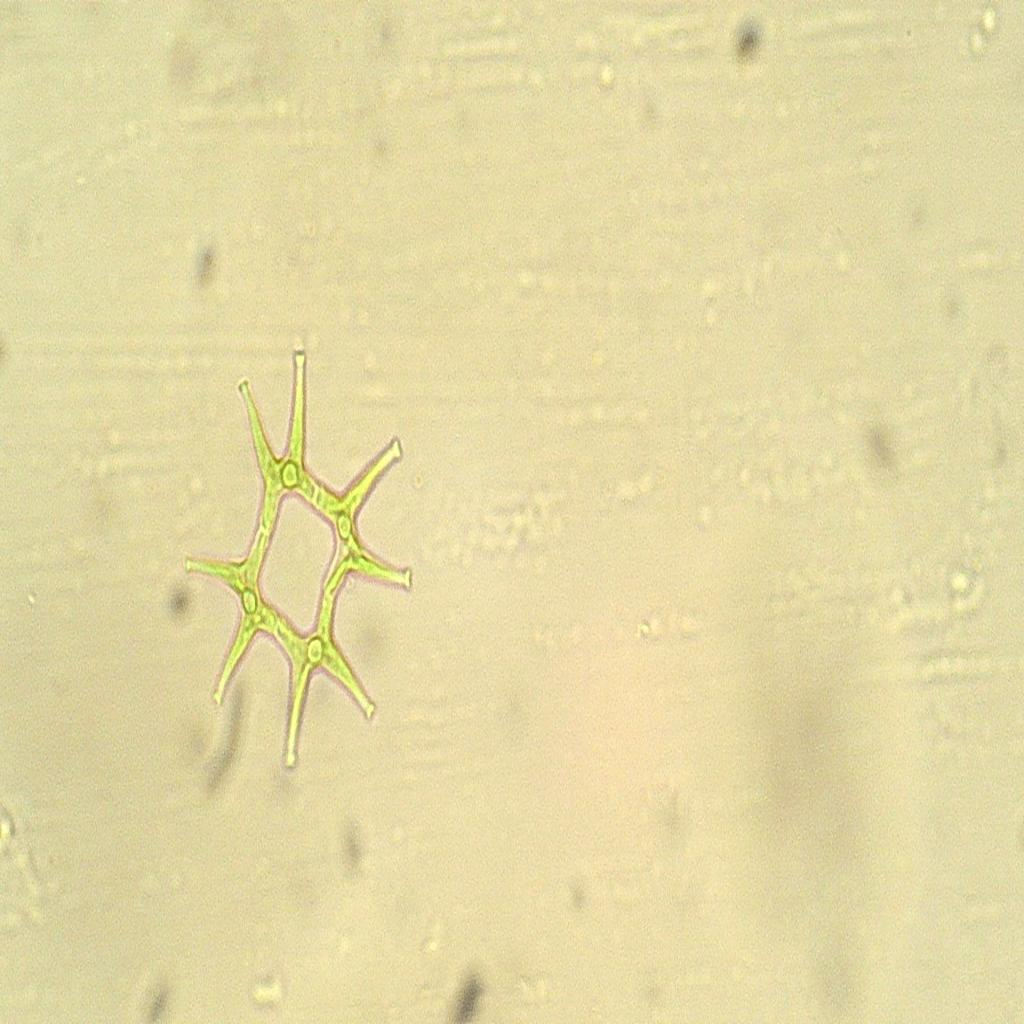Pediastrum_75O: (173, 337, 420, 788)
